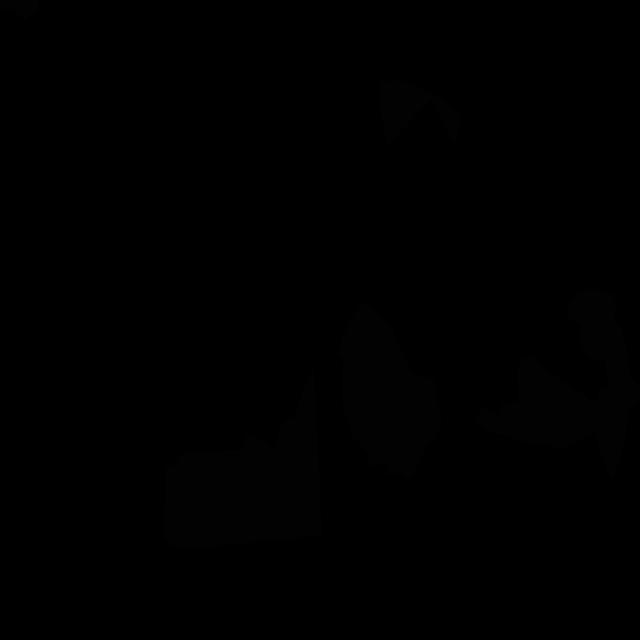cardboard: (164, 365, 322, 551), (338, 303, 442, 479), (566, 289, 640, 478), (476, 356, 599, 448), (379, 80, 462, 145)
